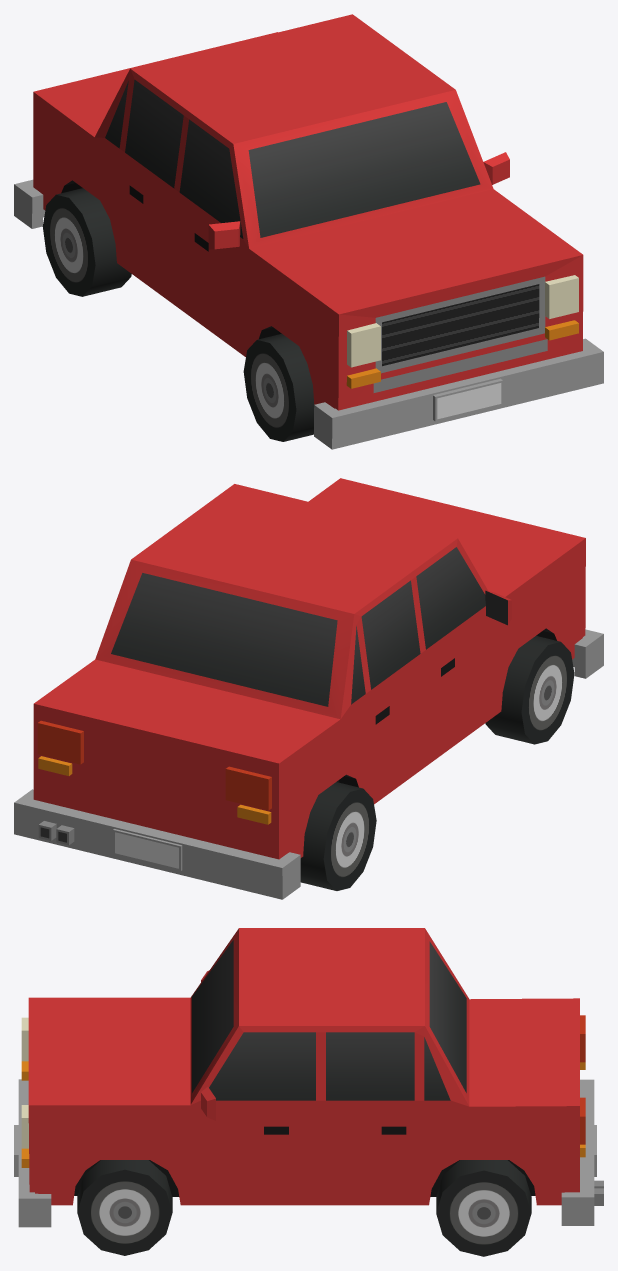
The model's file is CarA.fbx.
3 renders of one model, top to bottom at view 1: azimuth 30°, elevation 25°; view 2: azimuth 150°, elevation 25°; view 3: azimuth 270°, elevation 25°, orthographic. The views are drawn at different scales.
Visible parts, largest first — view 1: CarA, TireBR, TireFR; view 2: CarA, TireFR, TireBR; view 3: CarA, TireBL, TireFL.
Part boxes in pixels (box(x1,y1,x2,y2)): CarA: box(14, 14, 603, 449); TireBR: box(42, 188, 131, 296); TireFR: box(243, 333, 314, 441); CarA: box(14, 478, 603, 899); TireFR: box(485, 636, 574, 744); TireBR: box(300, 782, 376, 890); CarA: box(14, 928, 603, 1227); TireBL: box(436, 1160, 531, 1256); TireFL: box(77, 1160, 172, 1255).
Size of the model in its own units: 211 by 164 by 403.
